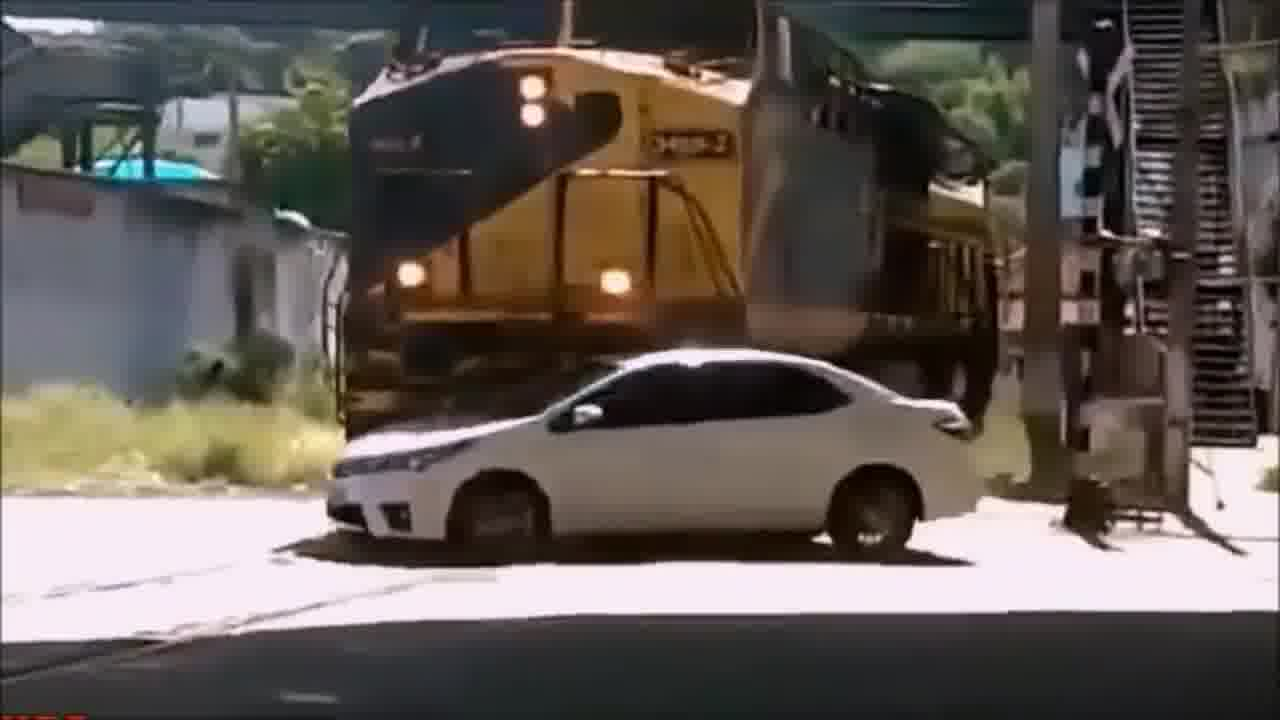crossing railway track: (306, 334, 1012, 566)
